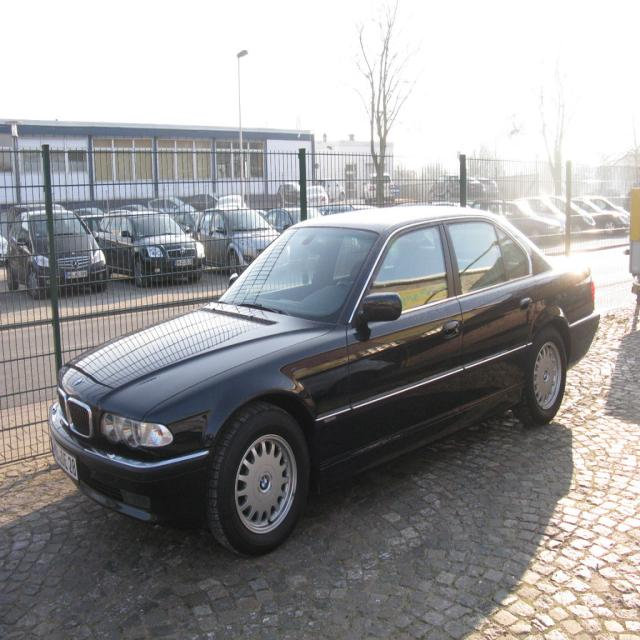car: (48, 200, 598, 568)
